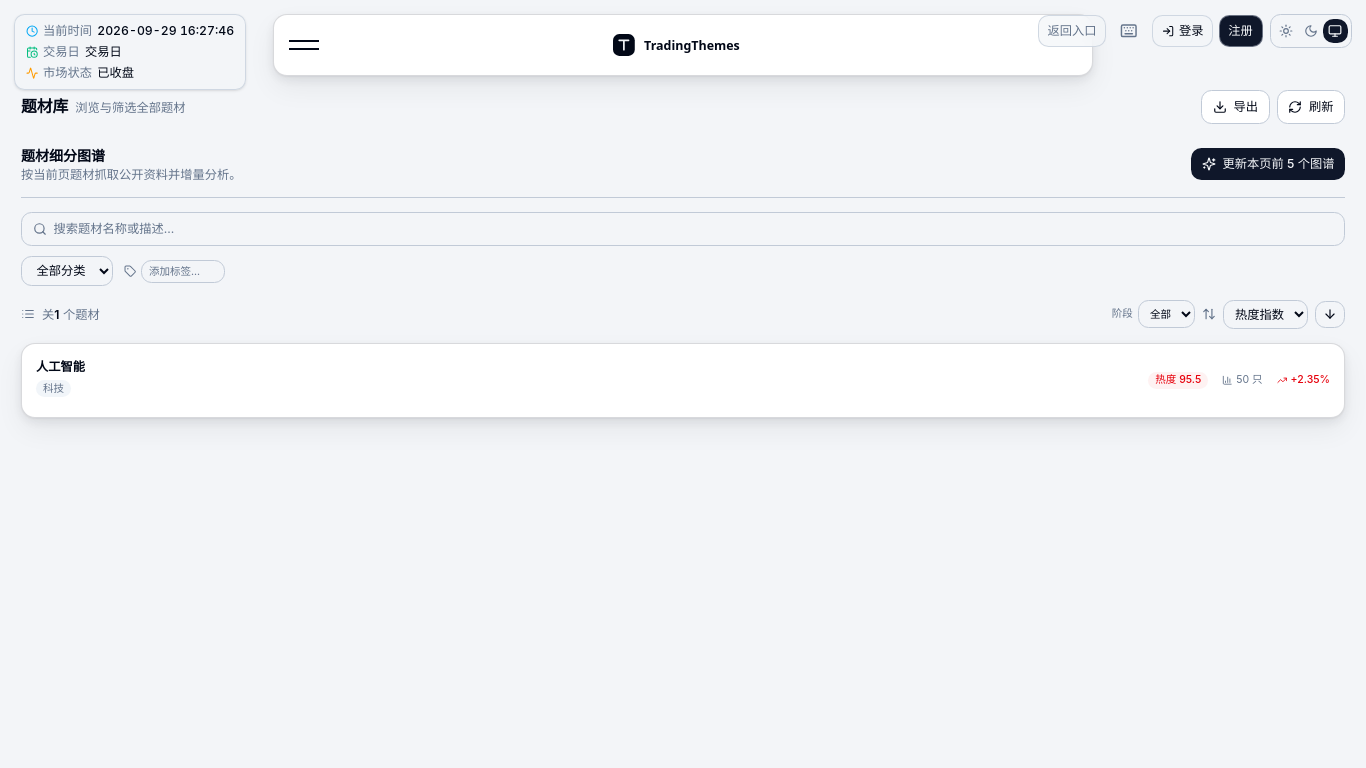
Test: ThemeLibrary › 图谱刷新超时时展示后端返回的具体处理建议
Click the button "更新本页前 5 个图谱": (1268, 164) [1191, 148, 1345, 180]
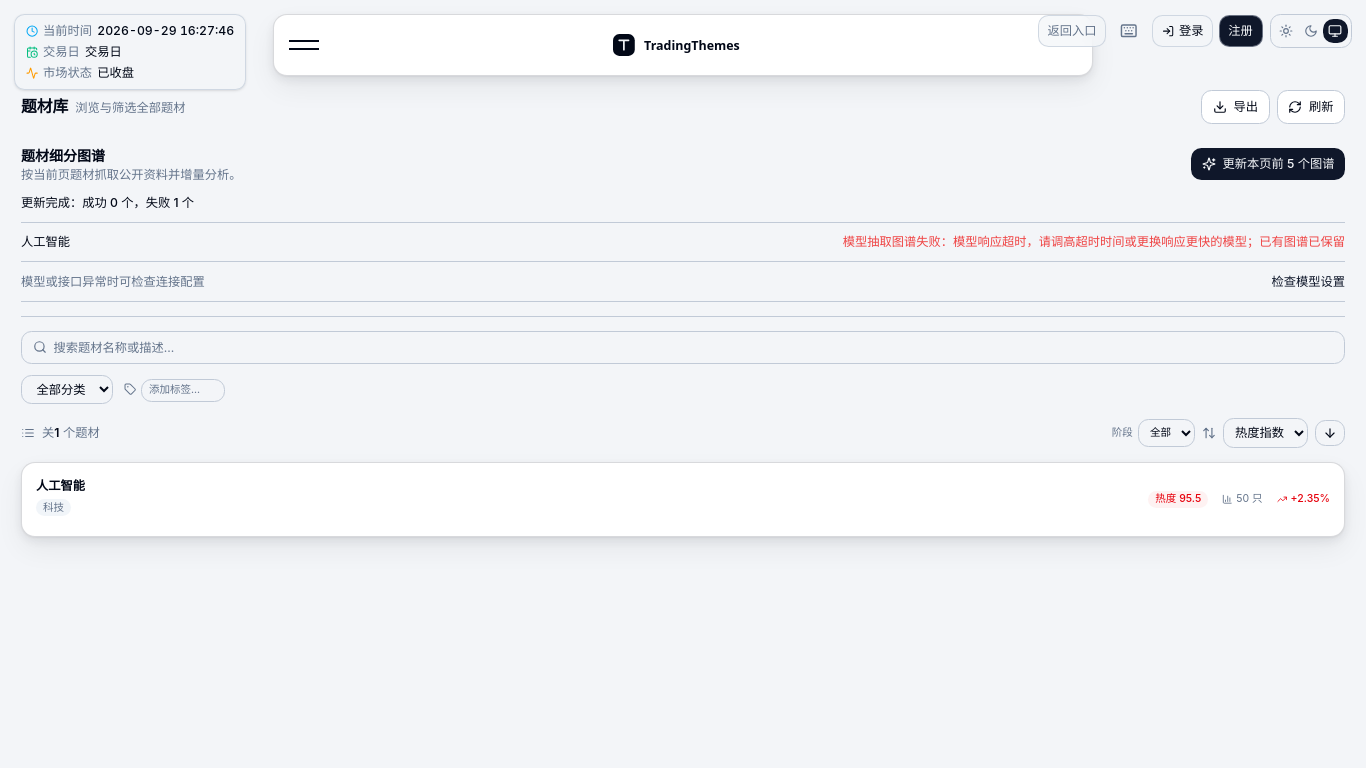
Expected: the text "模型抽取图谱失败：模型响应超时，请调高超时时间或更换响应更快的模型；已有图谱已保留" is shown, [843, 234, 1345, 249]
Expected: the text "更新完成：成功 0 个，失败 1 个" is shown, [21, 194, 194, 210]
Expected: the button "检查模型设置" is shown, [1272, 272, 1345, 290]
